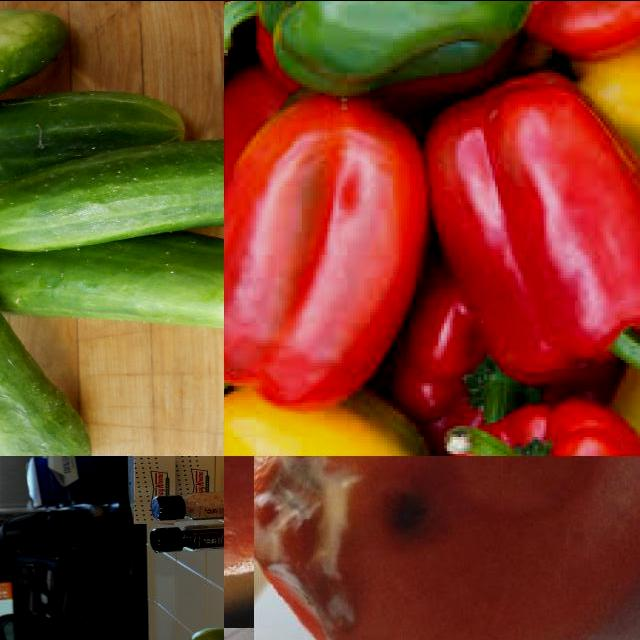bell_pepper: (426, 77, 640, 396), (225, 97, 430, 415), (225, 1, 533, 101), (225, 382, 433, 456), (425, 400, 640, 456)
cucumber: (1, 135, 225, 252), (1, 222, 225, 327), (1, 92, 192, 211), (1, 219, 96, 456), (1, 12, 70, 156)
